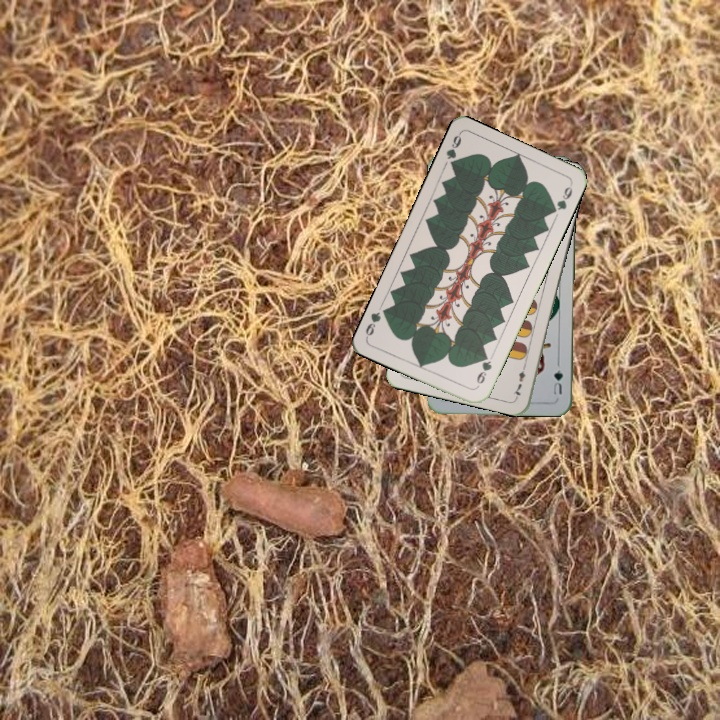E7: (509, 360, 529, 400)
G9: (442, 130, 464, 171), (472, 350, 494, 390)
GU: (550, 366, 565, 397)
